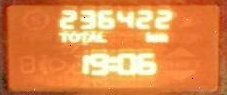0: (117, 51, 135, 76)
1: (80, 52, 88, 76)
2: (155, 8, 173, 29), (57, 9, 76, 28), (135, 7, 151, 29)
3: (79, 7, 95, 29)
4: (115, 8, 133, 27)
6: (135, 52, 157, 75), (96, 7, 113, 30)
9: (90, 52, 108, 76)
X: (156, 32, 169, 43), (109, 54, 116, 74), (78, 31, 88, 43), (68, 31, 78, 42), (58, 31, 67, 43), (145, 31, 154, 42), (97, 31, 106, 42), (88, 31, 96, 43)
